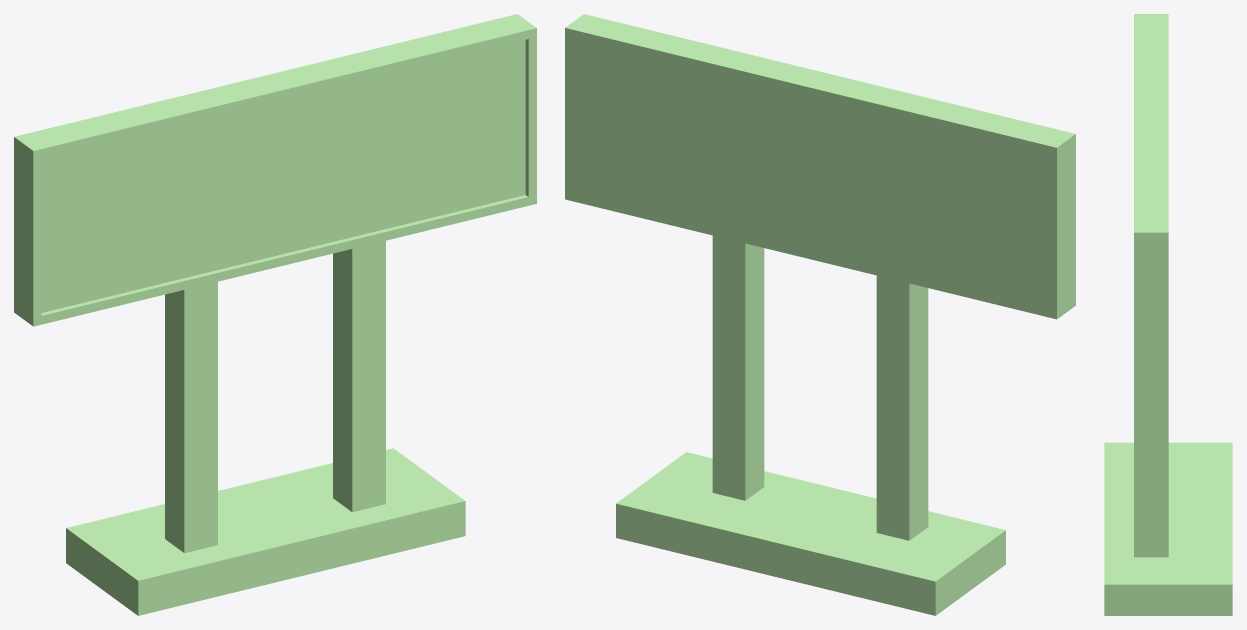
The model's file is smart_board.dae.
3 renders of one model, left to right at view 1: azimuth 30°, elevation 25°; view 2: azimuth 150°, elevation 25°; view 3: azimuth 270°, elevation 25°, orthographic. The views are drawn at different scales.
Parts seen in each view (by area): view 1: node0; view 2: node0; view 3: node0.
Part boxes in pixels (x1=…): node0: x1=14, y1=14, x2=536, y2=615; node0: x1=565, y1=14, x2=1075, y2=615; node0: x1=1104, y1=14, x2=1232, y2=615.
Bounding box in the file's own units: 3 × 0.7442 × 2.7.
